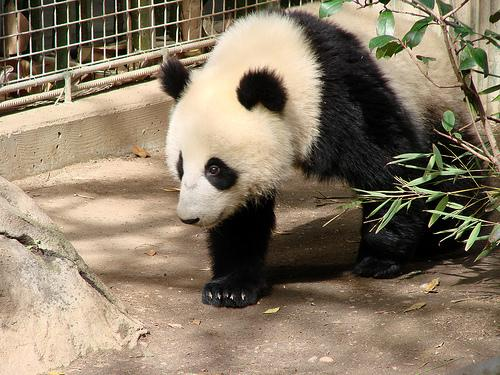panda: (161, 5, 469, 307), (353, 200, 435, 278), (414, 30, 455, 81), (396, 17, 412, 34)
